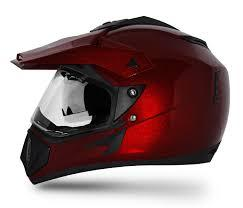helmet: (13, 9, 234, 181)
